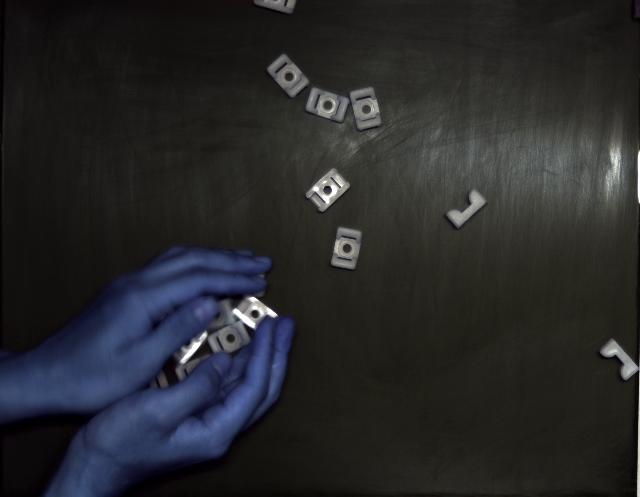first_side: (268, 55, 309, 98), (305, 88, 350, 122), (350, 88, 382, 131), (331, 228, 362, 270)
second_side: (306, 169, 350, 212)
third_side: (600, 339, 640, 381), (446, 190, 488, 229)
